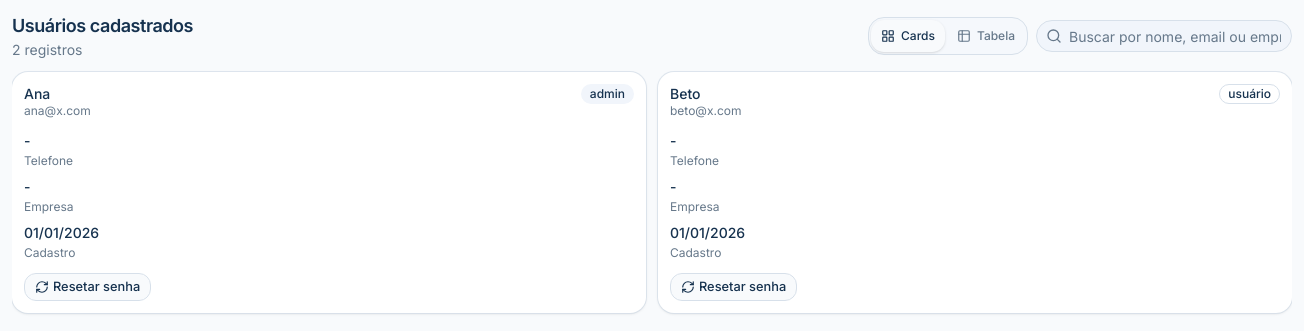
Test: UsersPanel › lists users with their role badge, and filters by search
This screenshot has width=1304, height=331.
Expected: the text "Ana" is shown, [24,85,50,102]
Expected: the icon "admin" is shown, [581,84,634,104]
In the field named "Buscar usuário": (1164,36) [1036,20,1292,52], type "beto"
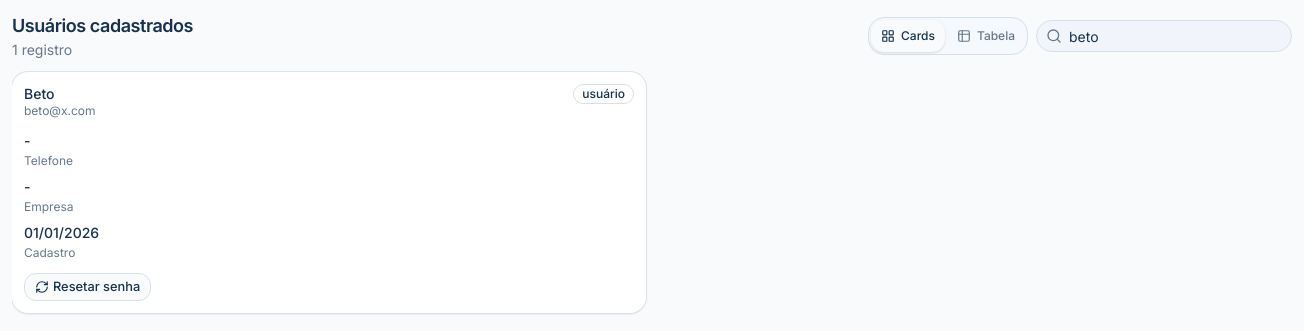
Expected: the text "Beto" is shown, [24,85,54,102]
Result: the text "Ana" is gone
